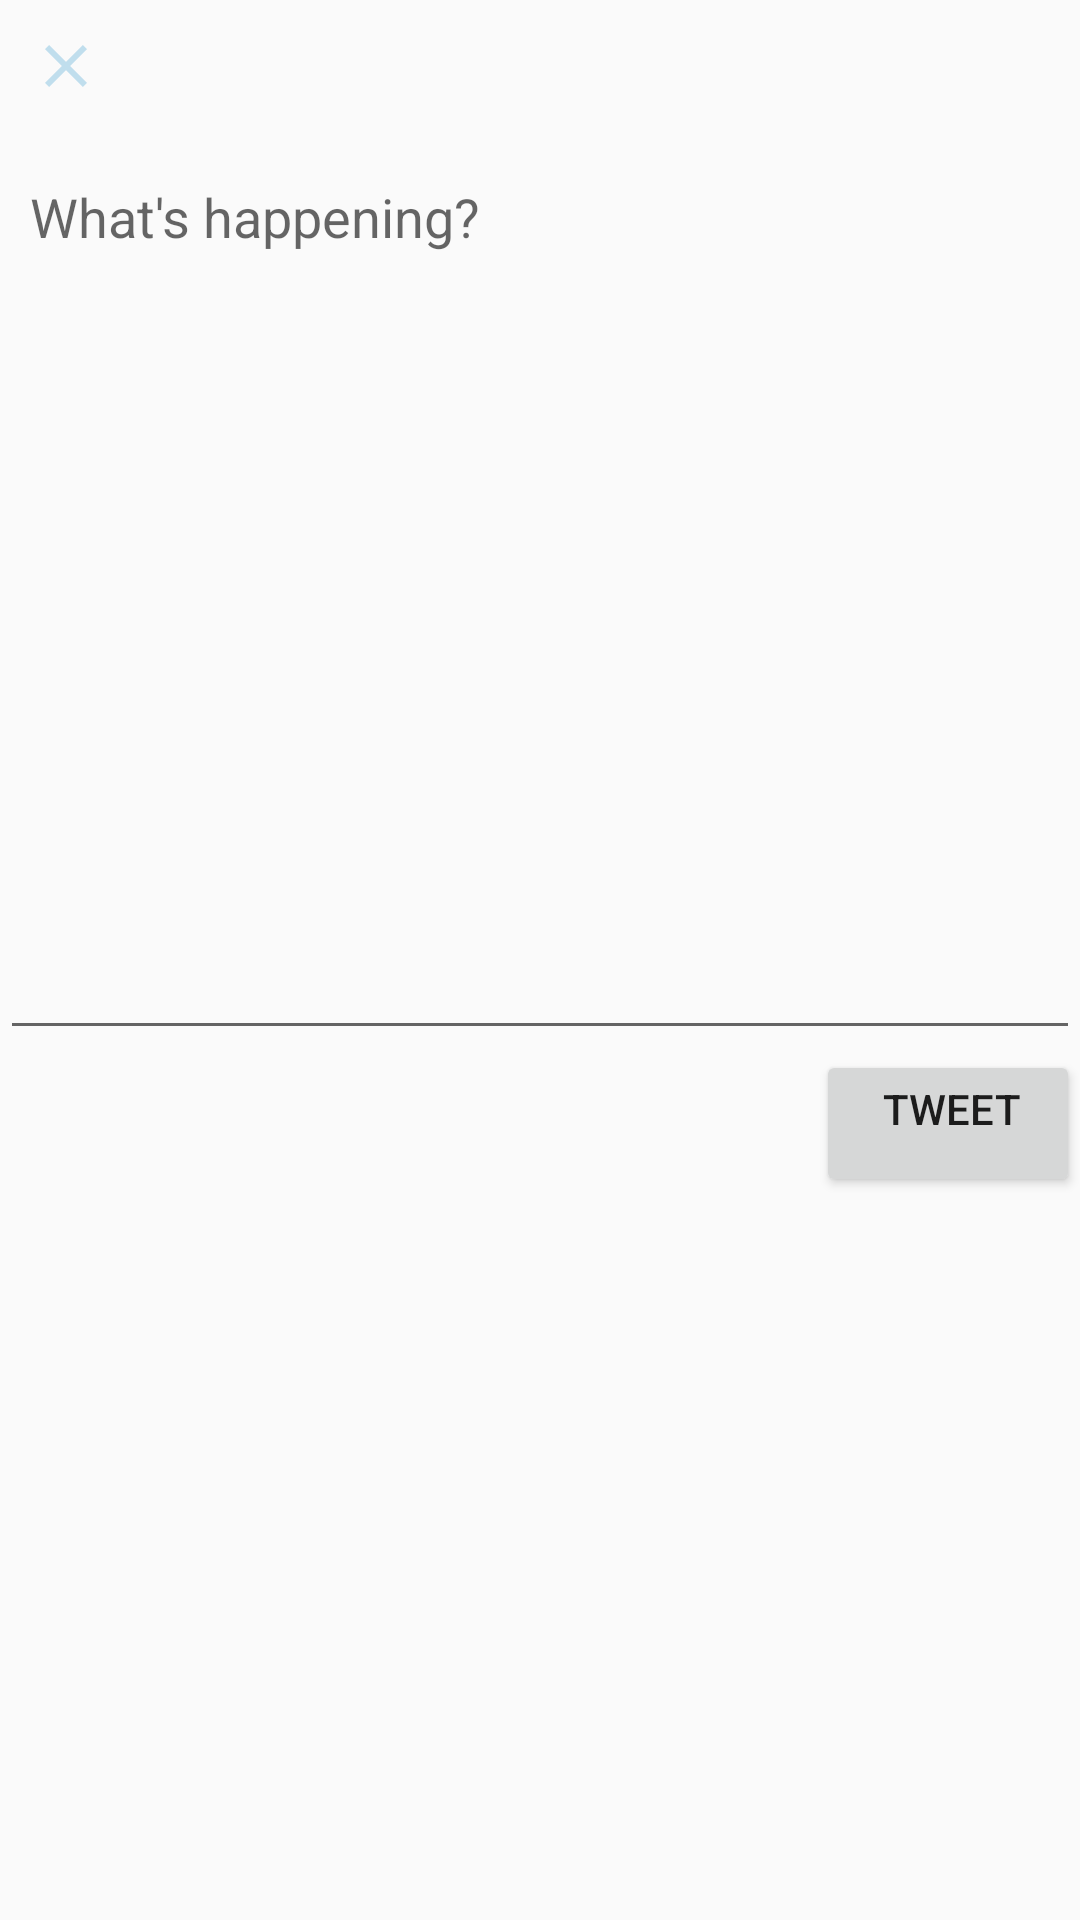

Icons on this 1080×1920 Android screen, each with the point to tap as [x,y]:
close: [66,66]
